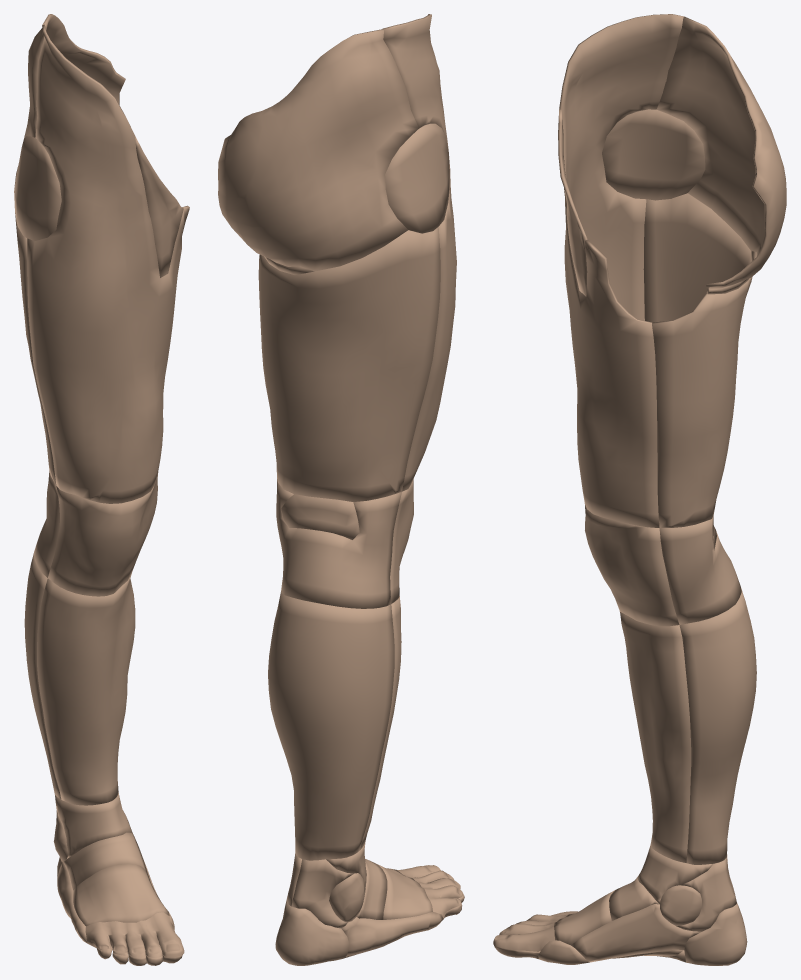
Rendered from detail-integumentary-right-lower-limb.glb.
3 renders of one model, left to right at view 1: azimuth 30°, elevation 25°; view 2: azimuth 150°, elevation 25°; view 3: azimuth 270°, elevation 25°, orthographic. The views are drawn at different scales.
Parts seen in each view (by area): view 1: za-bde75896e8bd00e9, za-7b96535e4e77e5a6, za-5bac518f7385b0f5, za-fc030eed5a7753d6, za-fa07c45f514ac750, za-2589d12bf7f1a67e, za-e3240e4721347820, za-07f79aa3756e09fe, za-9cbc1e322b2a917a, za-115204bfc0d23015, za-3febe45a7b20e361, za-4ffc50637c263a93 (+4 smaller); view 2: za-8307ddd468d031d2, za-2589d12bf7f1a67e, za-115204bfc0d23015, za-4ffc50637c263a93, za-bde75896e8bd00e9, za-fa07c45f514ac750, za-e092e41b883f75ef, za-38af4bbb5f7bf772, za-3fd79e9960ed2791, za-bd95383728b7c5ed, za-fc030eed5a7753d6, za-e3240e4721347820 (+5 smaller); view 3: za-bde75896e8bd00e9, za-8307ddd468d031d2, za-2589d12bf7f1a67e, za-115204bfc0d23015, za-7b96535e4e77e5a6, za-fa07c45f514ac750, za-5bac518f7385b0f5, za-4ffc50637c263a93, za-c40b8d10ed6fc170, za-e092e41b883f75ef, za-2195797355c311d7, za-07f79aa3756e09fe (+6 smaller).
Part boxes in pixels (x1,y1,x2,y2): za-bde75896e8bd00e9: (27, 24, 189, 503); za-7b96535e4e77e5a6: (37, 571, 135, 805); za-5bac518f7385b0f5: (48, 472, 158, 596); za-fc030eed5a7753d6: (73, 864, 169, 926); za-fa07c45f514ac750: (14, 136, 61, 241); za-2589d12bf7f1a67e: (14, 14, 125, 185); za-e3240e4721347820: (85, 912, 184, 957); za-07f79aa3756e09fe: (55, 793, 132, 858); za-9cbc1e322b2a917a: (135, 136, 183, 277); za-115204bfc0d23015: (24, 553, 61, 799); za-3febe45a7b20e361: (63, 832, 147, 890); za-4ffc50637c263a93: (34, 471, 59, 577); za-8307ddd468d031d2: (258, 227, 440, 501); za-2589d12bf7f1a67e: (218, 29, 418, 271); za-115204bfc0d23015: (268, 591, 394, 860); za-4ffc50637c263a93: (276, 479, 401, 608); za-bde75896e8bd00e9: (382, 14, 456, 491); za-fa07c45f514ac750: (385, 123, 449, 233); za-e092e41b883f75ef: (275, 900, 348, 965); za-38af4bbb5f7bf772: (281, 494, 359, 539); za-3fd79e9960ed2791: (291, 859, 354, 928); za-bd95383728b7c5ed: (341, 911, 443, 955); za-fc030eed5a7753d6: (375, 863, 432, 919); za-e3240e4721347820: (397, 865, 462, 918); za-bde75896e8bd00e9: (559, 14, 684, 527); za-8307ddd468d031d2: (643, 193, 752, 528); za-2589d12bf7f1a67e: (656, 16, 786, 289); za-115204bfc0d23015: (679, 588, 756, 864); za-7b96535e4e77e5a6: (620, 612, 691, 862); za-fa07c45f514ac750: (602, 109, 705, 200); za-5bac518f7385b0f5: (585, 505, 679, 626); za-4ffc50637c263a93: (659, 515, 741, 624); za-c40b8d10ed6fc170: (571, 904, 701, 962); za-e092e41b883f75ef: (684, 903, 747, 965); za-2195797355c311d7: (676, 857, 736, 931); za-07f79aa3756e09fe: (637, 846, 712, 903).
Bounding box in the file's own units: 0.1818 × 1.02 × 0.294.
